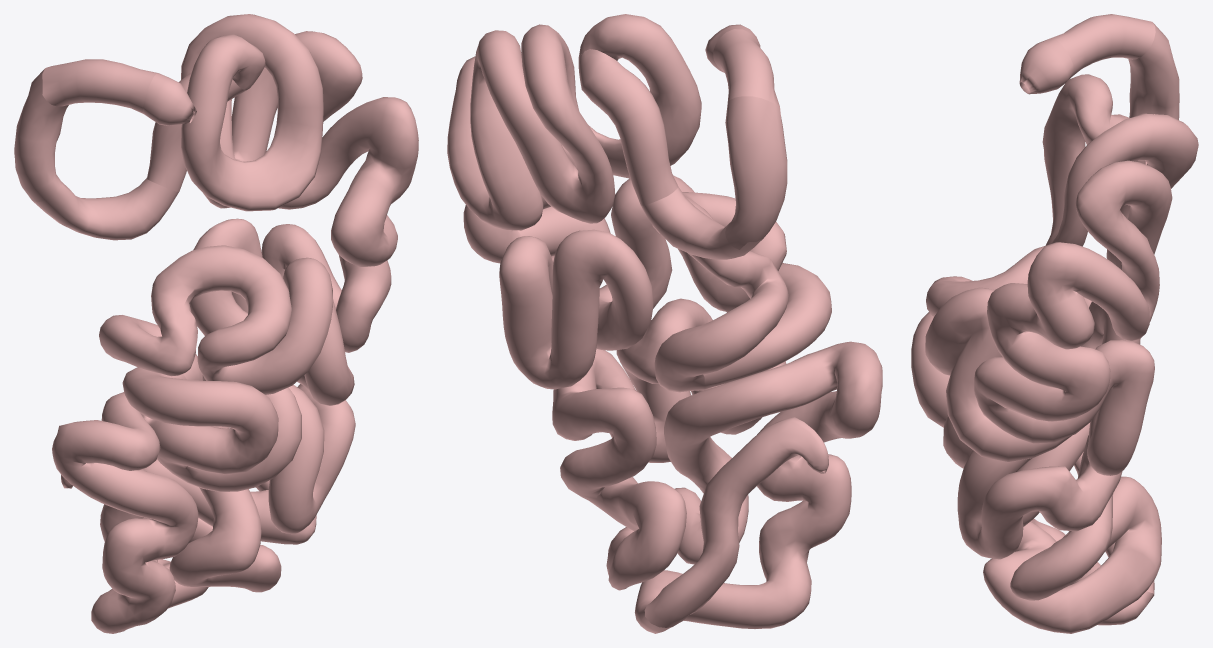
The model's file is VH_M_Small_Intestine.fbx.
3 renders of one model, left to right at view 1: azimuth 30°, elevation 25°; view 2: azimuth 150°, elevation 25°; view 3: azimuth 270°, elevation 25°, orthographic. The views are drawn at different scales.
Visible parts, largest first — view 1: VH_M_jejunum, VH_M_ileum, VH_M_duodenum_horizonal, VH_M_duodenum_superior, VH_M_duodenum_descending, VH_M_duodenum_ascending, VH_M_duodenal_ampulla, VH_M_ileum_terminal; view 2: VH_M_jejunum, VH_M_ileum, VH_M_ileum_terminal, VH_M_duodenum_descending, VH_M_duodenum_ascending, VH_M_duodenum_horizonal, VH_M_duodenum_superior; view 3: VH_M_jejunum, VH_M_ileum, VH_M_duodenum_superior, VH_M_duodenum_descending, VH_M_duodenal_ampulla.
Boxes of the visible parts, x1,y1,x2,y2 form: VH_M_jejunum: (99,14,418,405); VH_M_ileum: (52,367,355,633); VH_M_duodenum_horizonal: (33,178,178,240); VH_M_duodenum_superior: (42,59,157,113); VH_M_duodenum_descending: (14,69,70,202); VH_M_duodenum_ascending: (147,73,246,191); VH_M_duodenal_ampulla: (143,73,196,125); VH_M_ileum_terminal: (61,469,157,561); VH_M_jejunum: (447,14,788,392); VH_M_ileum: (552,263,882,633); VH_M_ileum_terminal: (644,417,828,627); VH_M_duodenum_descending: (725,96,787,249); VH_M_duodenum_ascending: (578,49,678,205); VH_M_duodenum_horizonal: (641,187,762,259); VH_M_duodenum_superior: (713,29,779,105); VH_M_jejunum: (925,74,1198,475); VH_M_ileum: (911,312,1161,633); VH_M_duodenum_superior: (1052,14,1155,77); VH_M_duodenum_descending: (1128,23,1179,119); VH_M_duodenal_ampulla: (1019,38,1074,94).
Bounding box in the file's own units: 18.8 × 26.54 × 12.22.
